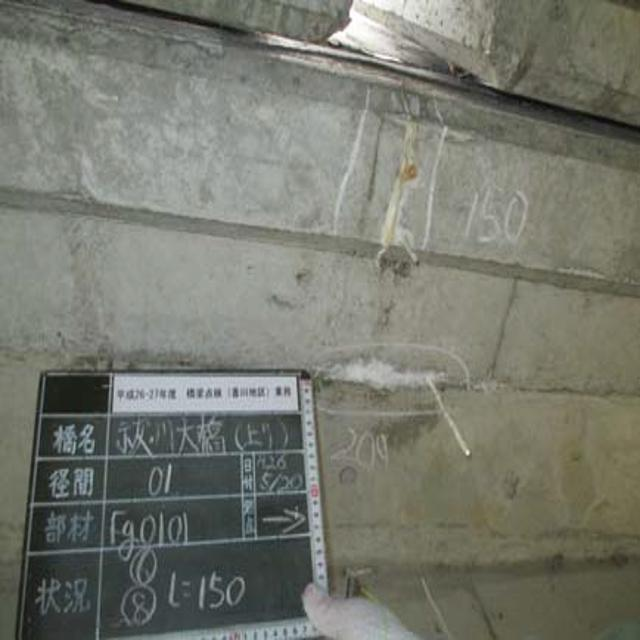freelime: (376, 150, 441, 271), (323, 348, 458, 403)
